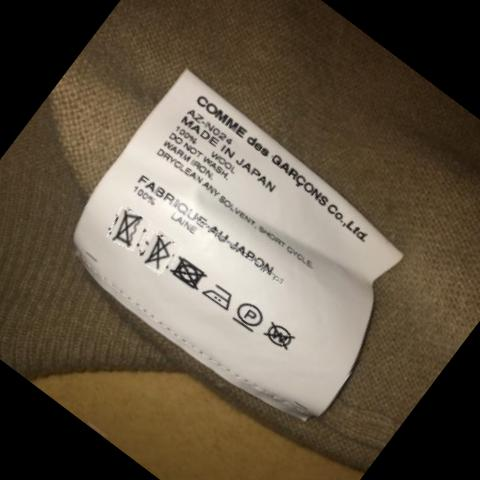DN_bleach: (145, 236, 174, 273)
DN_tumble_dry: (174, 258, 204, 287)
DN_wash: (114, 210, 142, 249)
DN_wet_clean: (264, 318, 298, 354)
dry_clean_any_solvent_except_trichloroethylene: (231, 300, 268, 333)
iron_medium: (204, 285, 235, 310)
